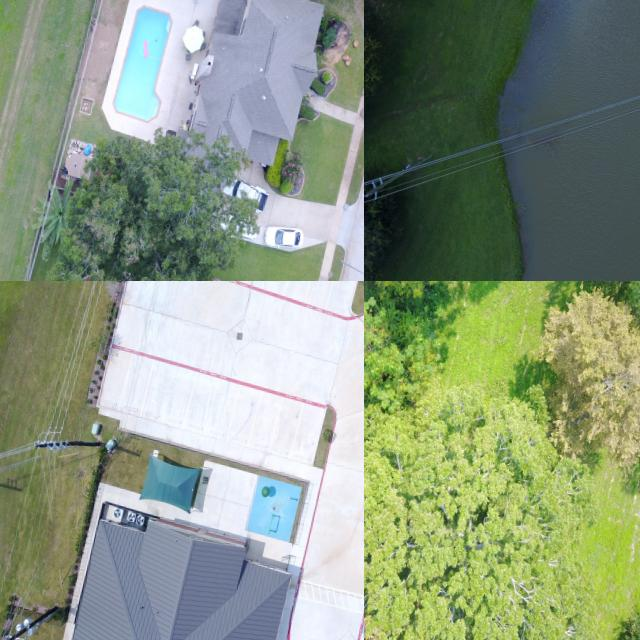fire: (507, 111, 640, 281)
